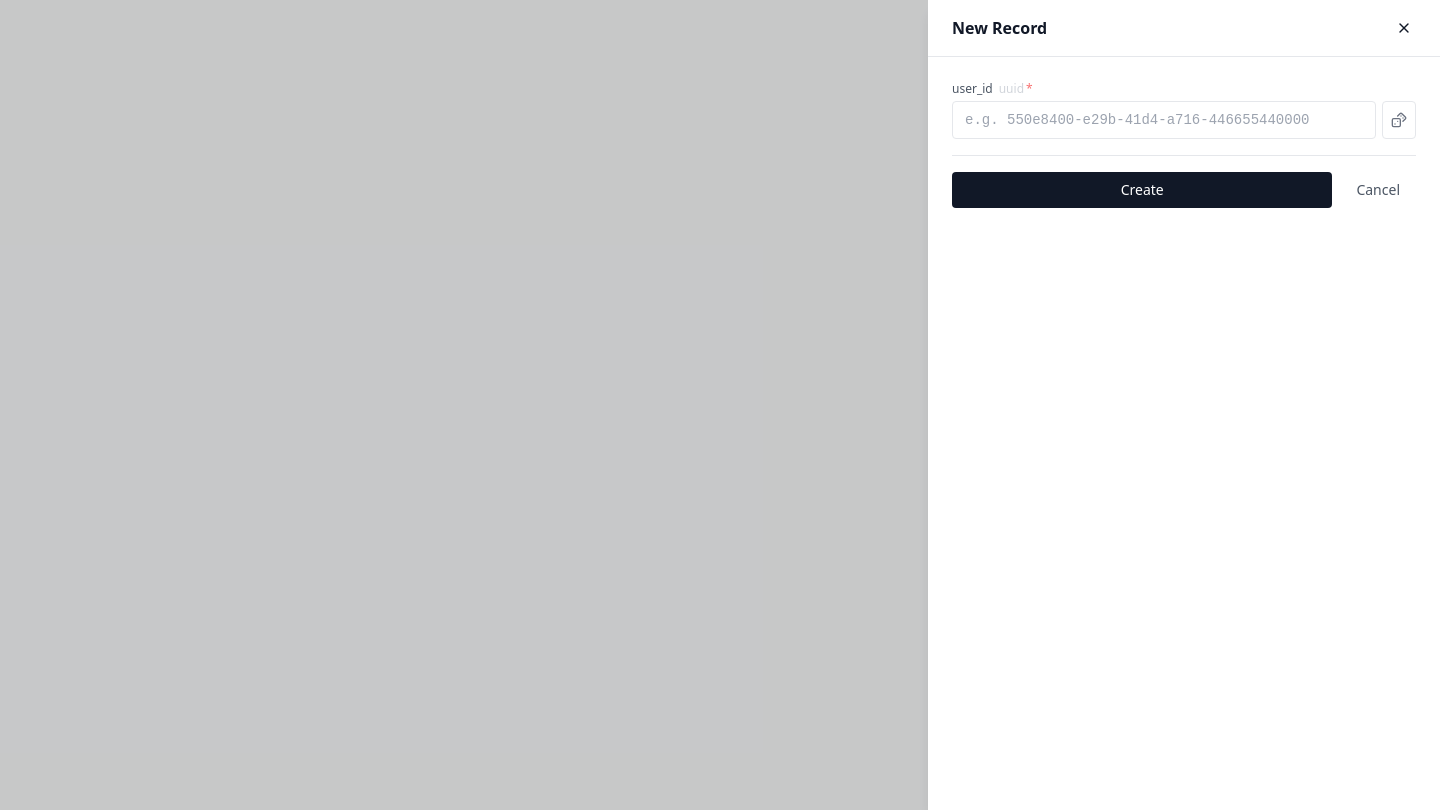
Test: RecordForm › clears UUID hint when user starts typing again
Type "bad" into the field. click: (1164,120)
box: [952,101,1376,139]
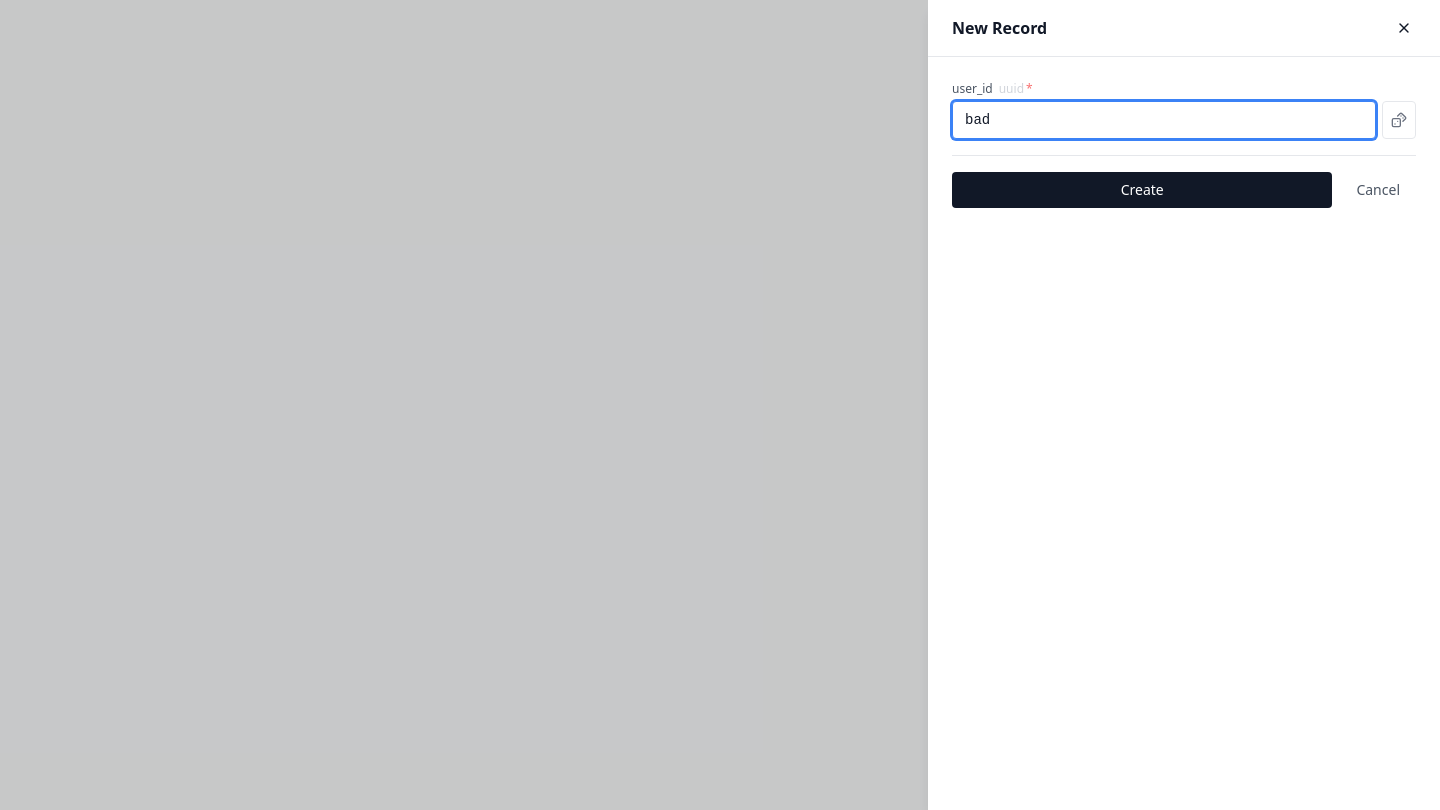
Press Tab
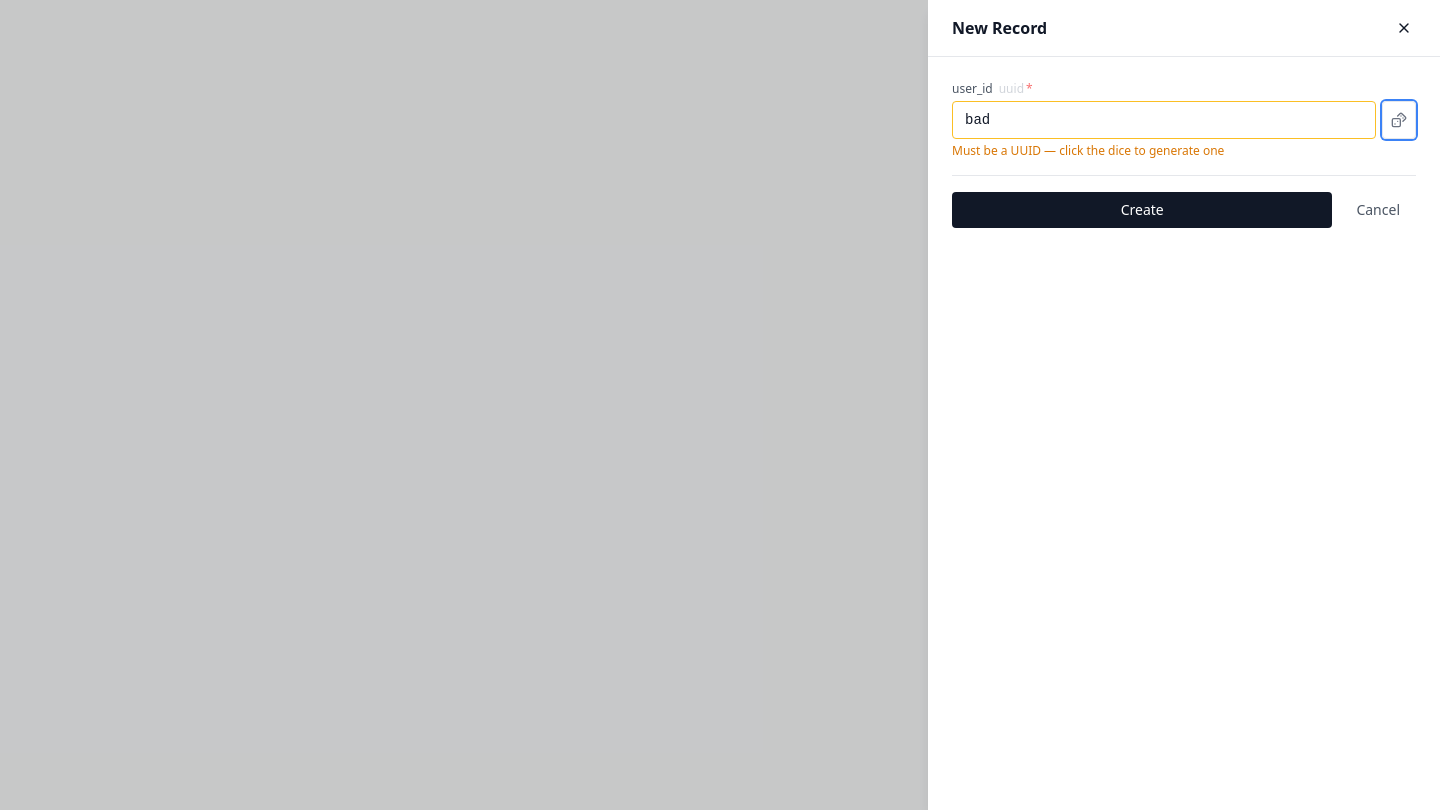
Result: the text "Must be a UUID — click the dice to generate one" is shown at [952,142,1224,159]
Type "x" into the field. click: (1164,120)
box: [952,101,1376,139]
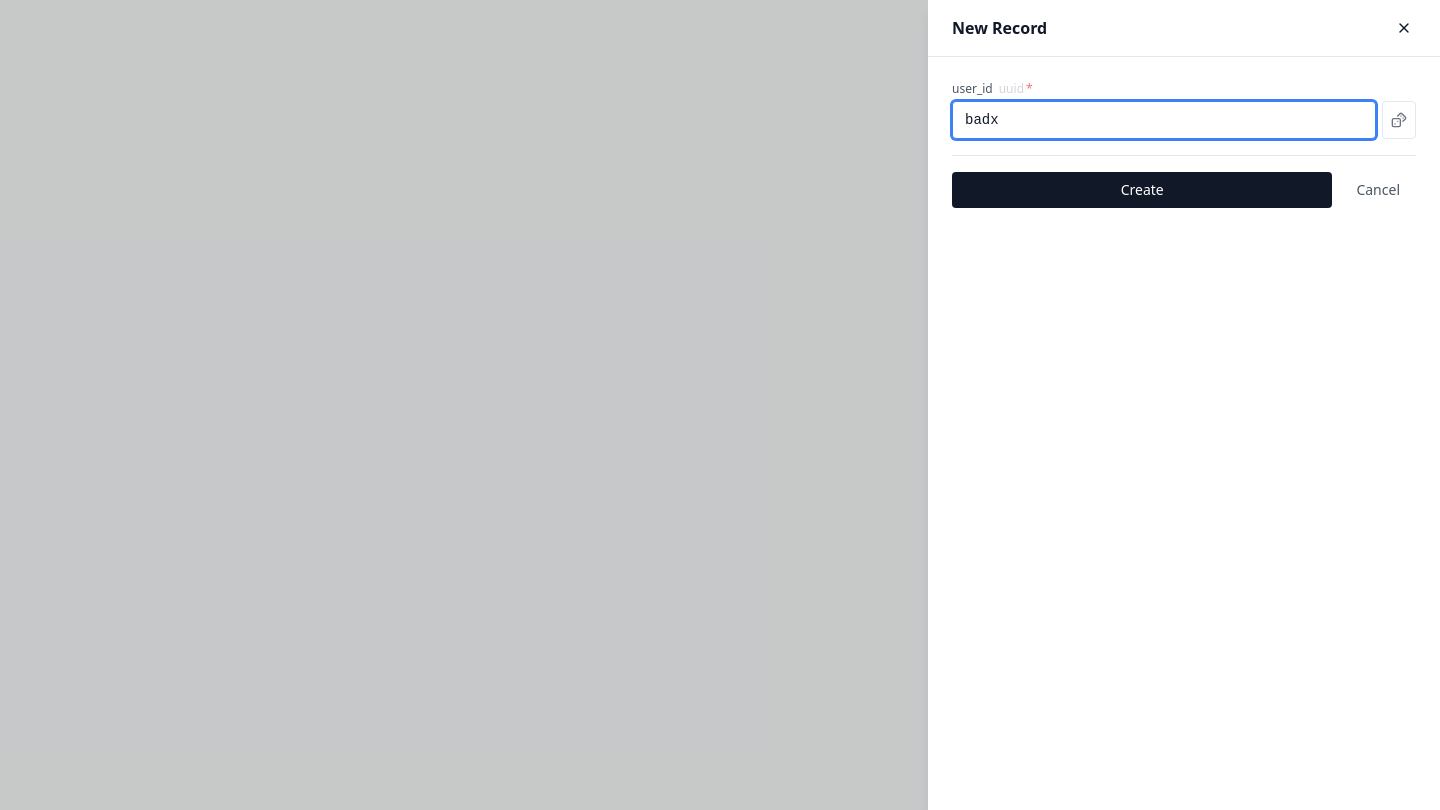
Result: the text "click the dice" is gone
